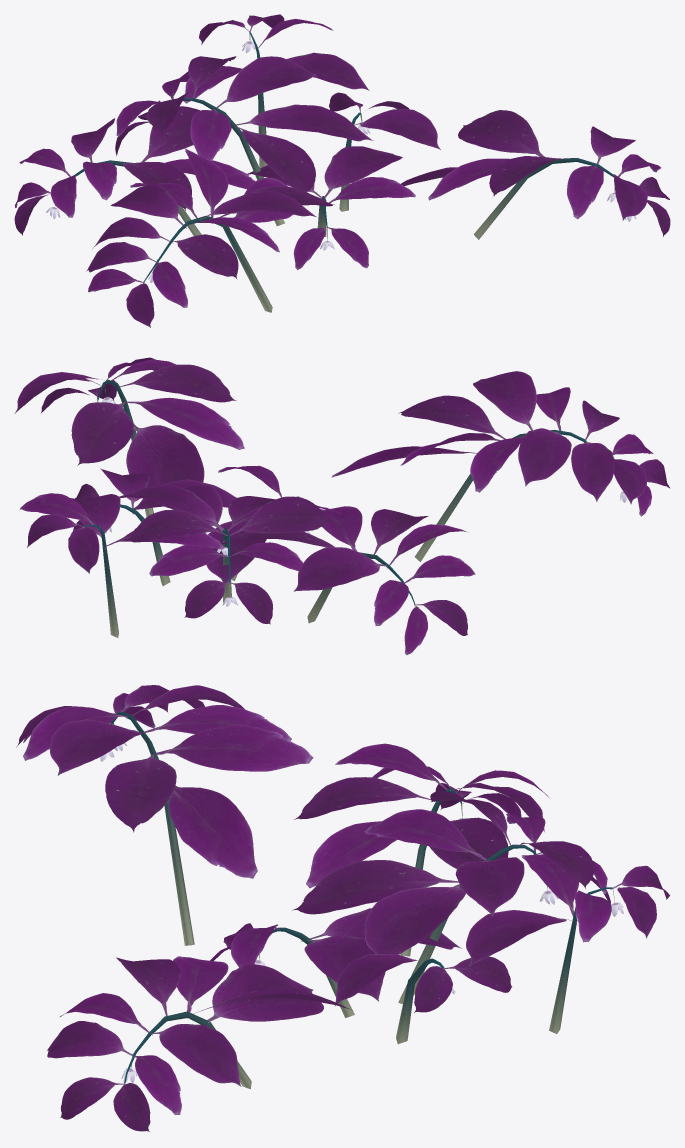
3 views of the same model, one above another, from view 1: azimuth 30°, elevation 25°; view 2: azimuth 150°, elevation 25°; view 3: azimuth 270°, elevation 25° (orthographic). The views are drawn at different scales.
Visible parts, largest first — view 1: SM_GF_Lily_03_LOD0; view 2: SM_GF_Lily_03_LOD0; view 3: SM_GF_Lily_03_LOD0.
Boxes of the visible parts, <box> form: SM_GF_Lily_03_LOD0: <box>14,14,670,327</box>; SM_GF_Lily_03_LOD0: <box>14,357,670,654</box>; SM_GF_Lily_03_LOD0: <box>16,685,669,1131</box>.
Size of the model in its own units: 1.25 by 0.3145 by 0.9837.
1 material, 1 textured.
